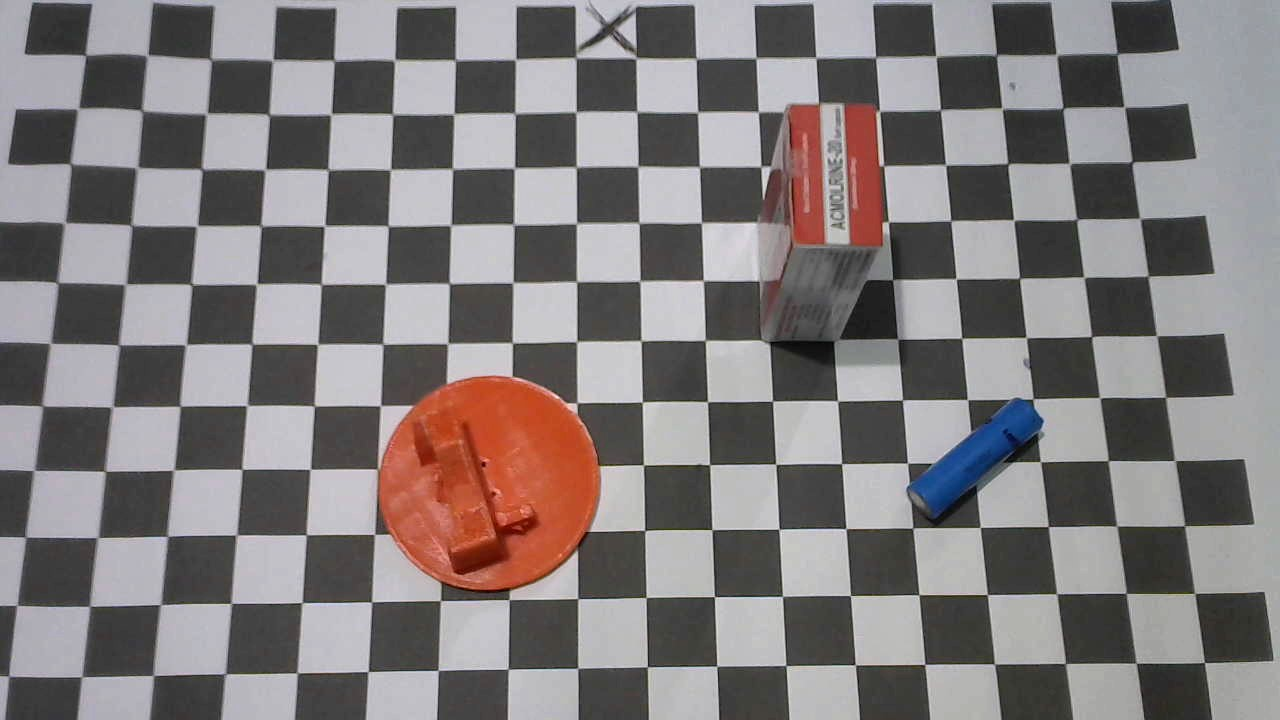green: (374, 375, 601, 592)
red: (754, 103, 883, 341)
yellow: (901, 398, 1044, 522)
